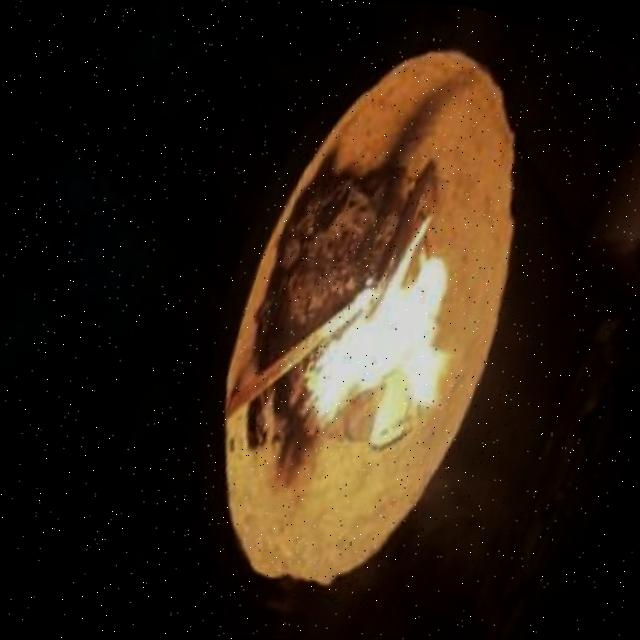fire: (271, 226, 479, 470)
